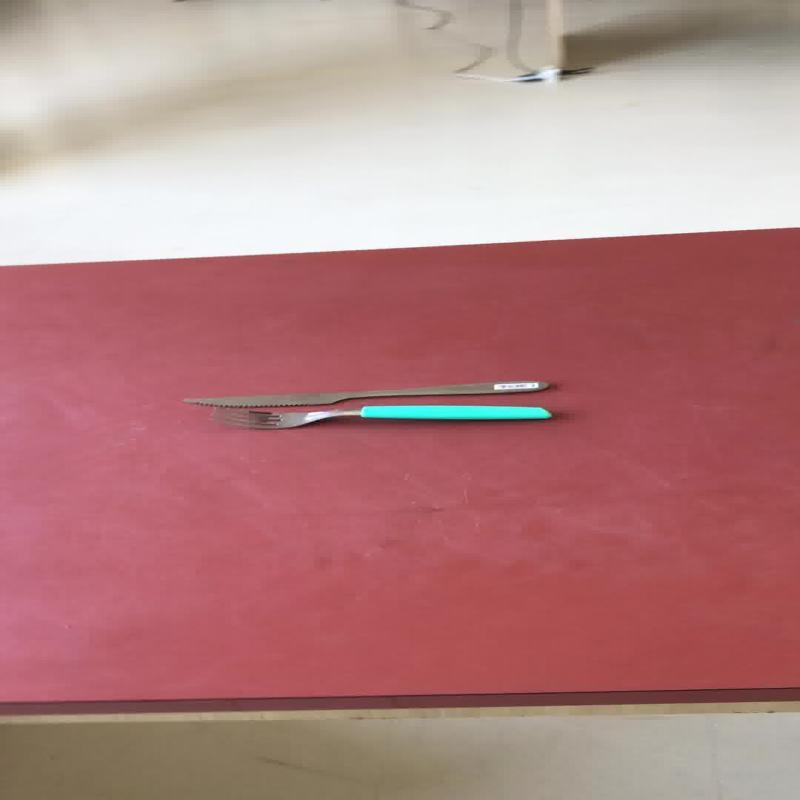fork: (210, 403, 552, 429)
knife: (179, 379, 550, 408)
